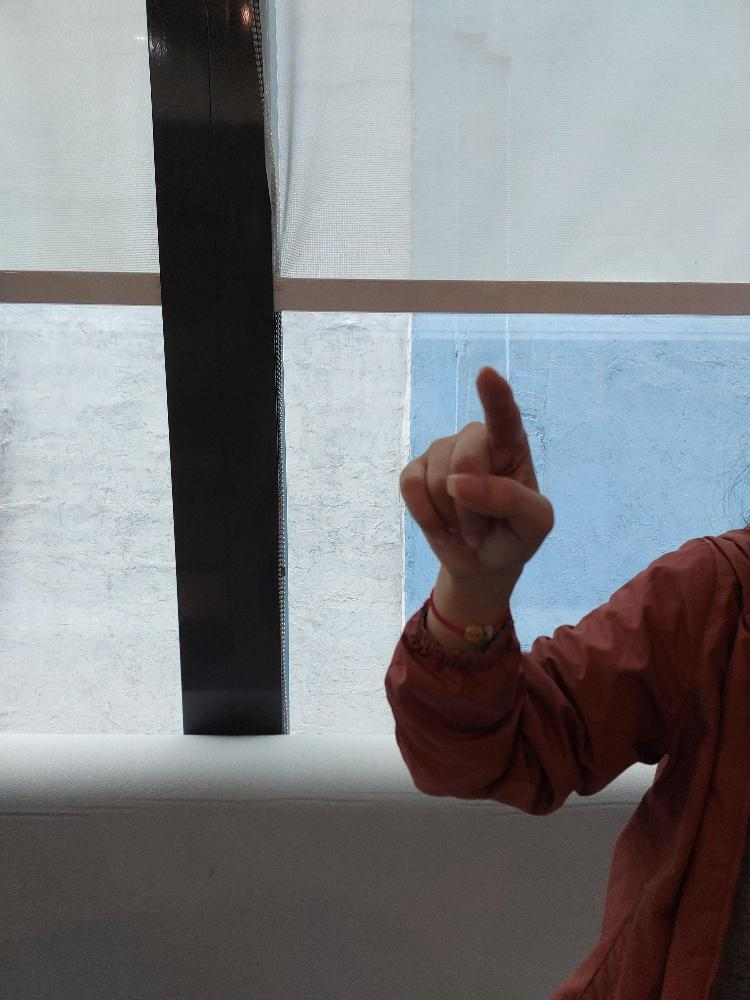z: (396, 364, 556, 589)
